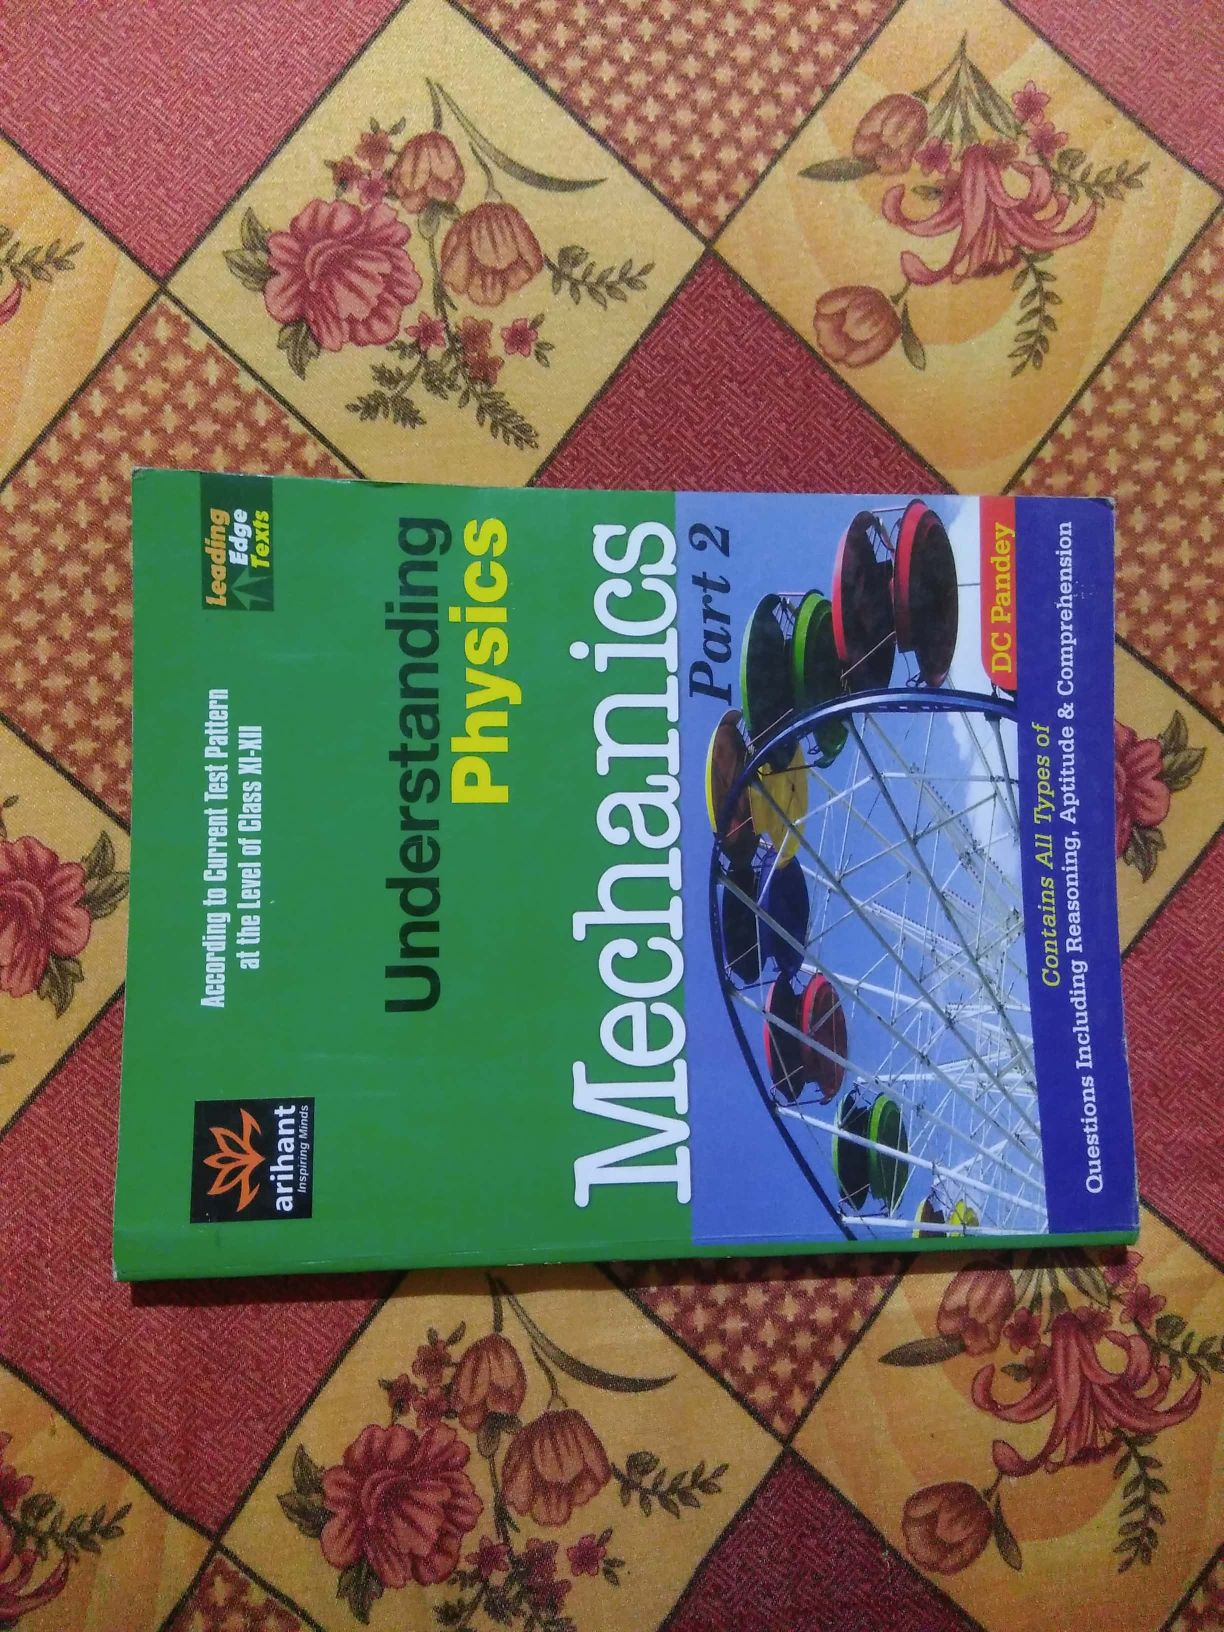mechanics: (33, 407, 1187, 1306)
